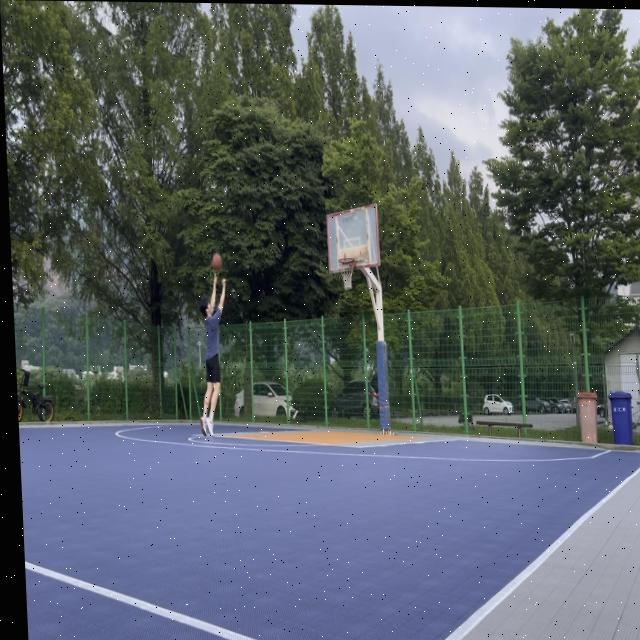basketball: (211, 253, 223, 272)
hoop: (338, 257, 356, 292)
